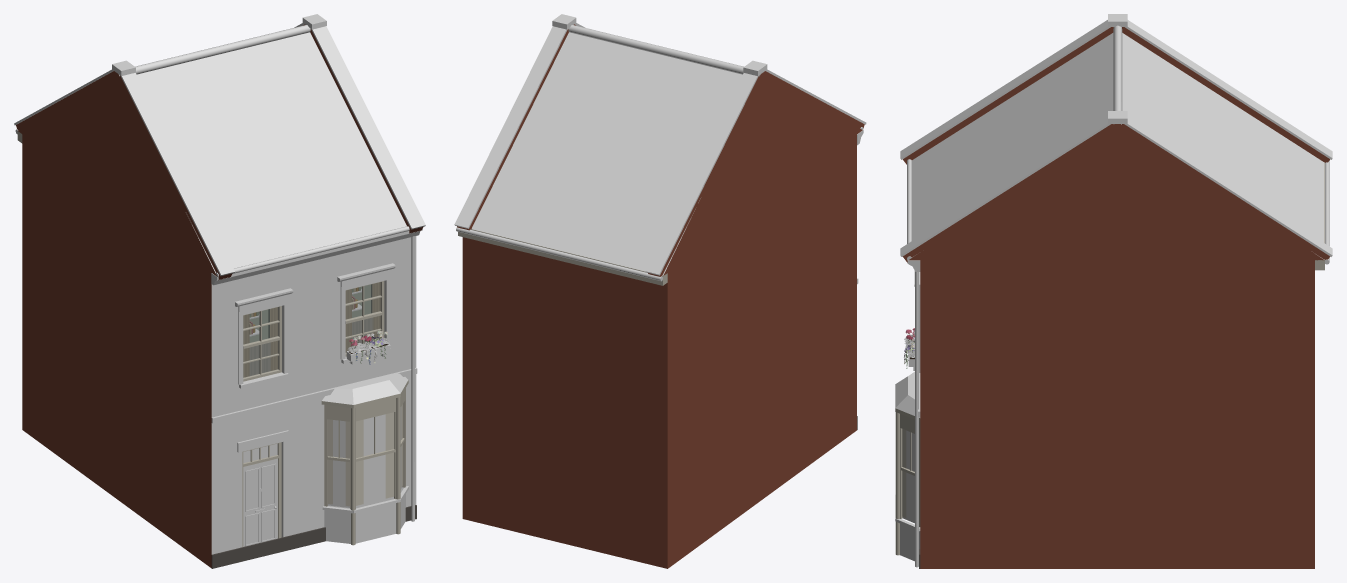
The model's file is terrace_50.glb.
3 renders of one model, left to right at view 1: azimuth 30°, elevation 25°; view 2: azimuth 150°, elevation 25°; view 3: azimuth 270°, elevation 25°, orthographic. The views are drawn at different scales.
Parts seen in each view (by area): view 1: terrace_50; view 2: terrace_50; view 3: terrace_50.
Boxes of the visible parts, x1,y1,x2,y2 form: terrace_50: (14,14,425,568); terrace_50: (454,14,866,568); terrace_50: (895,14,1332,568).
Size of what is drawn, in the model's own units: 5.02 by 10.08 by 8.87.
